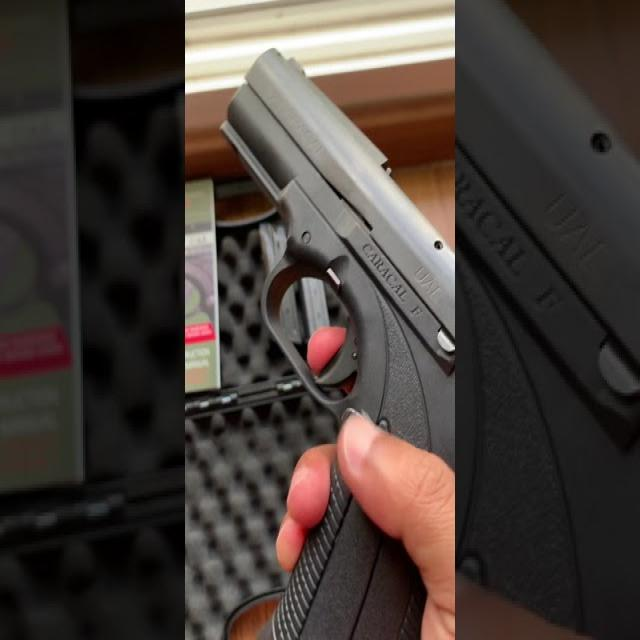Gun: (174, 57, 455, 640)
